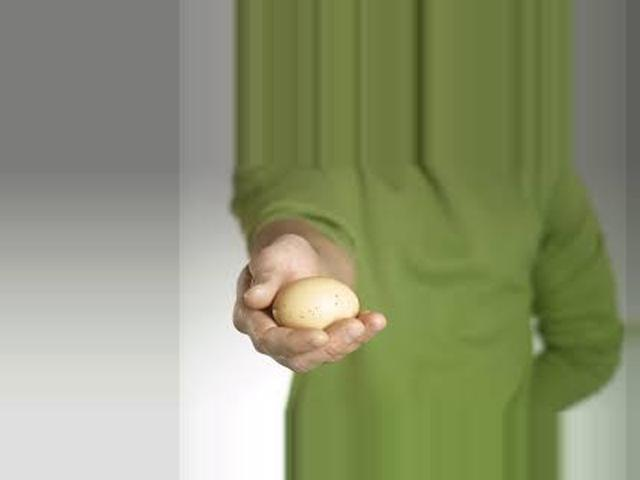egg: (272, 278, 360, 330)
